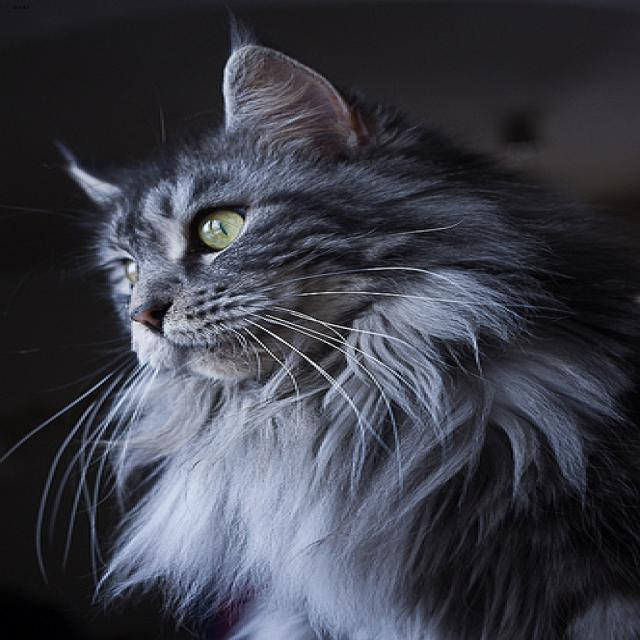Maine_Coon: (54, 37, 494, 401)
